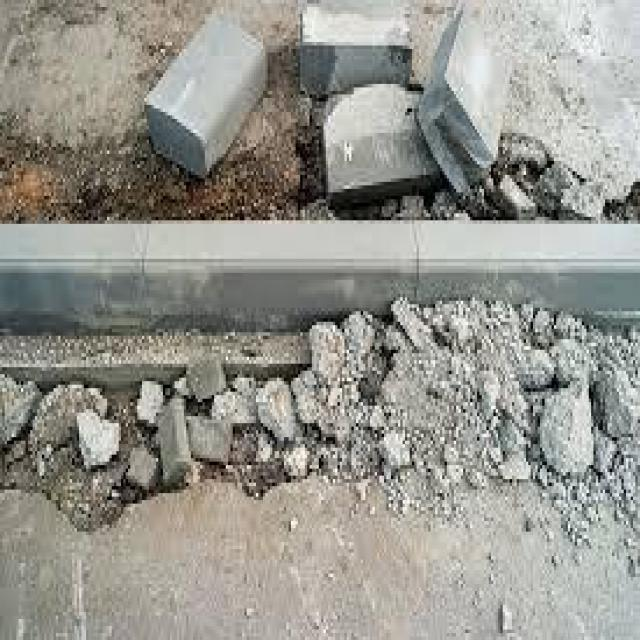hole: (2, 336, 400, 528)
